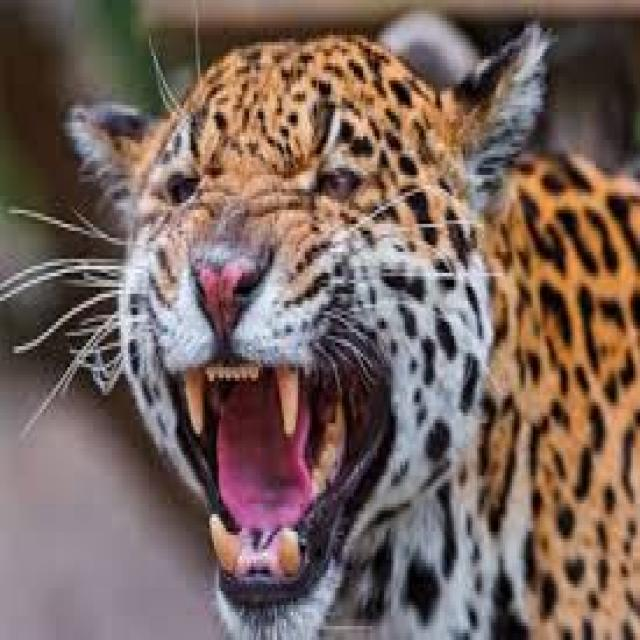Jaguar: (58, 35, 640, 640)
